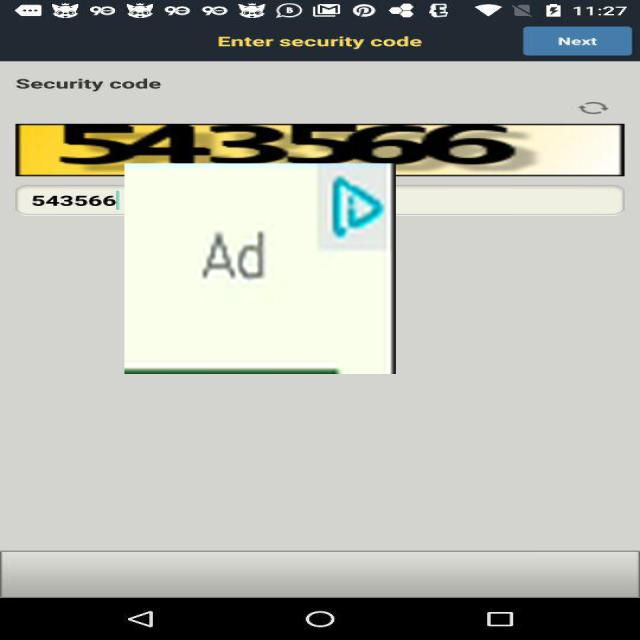sneaking: (124, 163, 396, 374)
